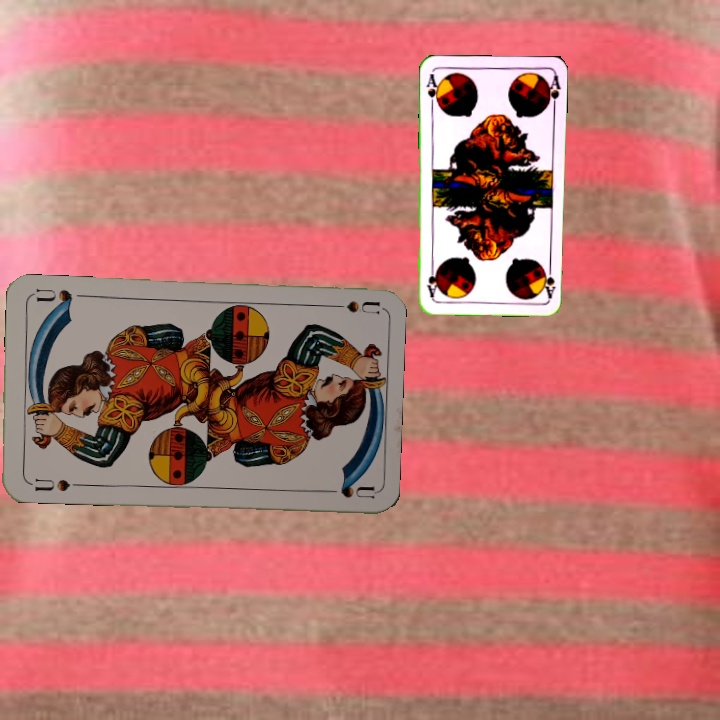SA: (422, 70, 442, 110), (540, 260, 558, 300)
SU: (321, 297, 380, 318), (24, 474, 83, 494)
